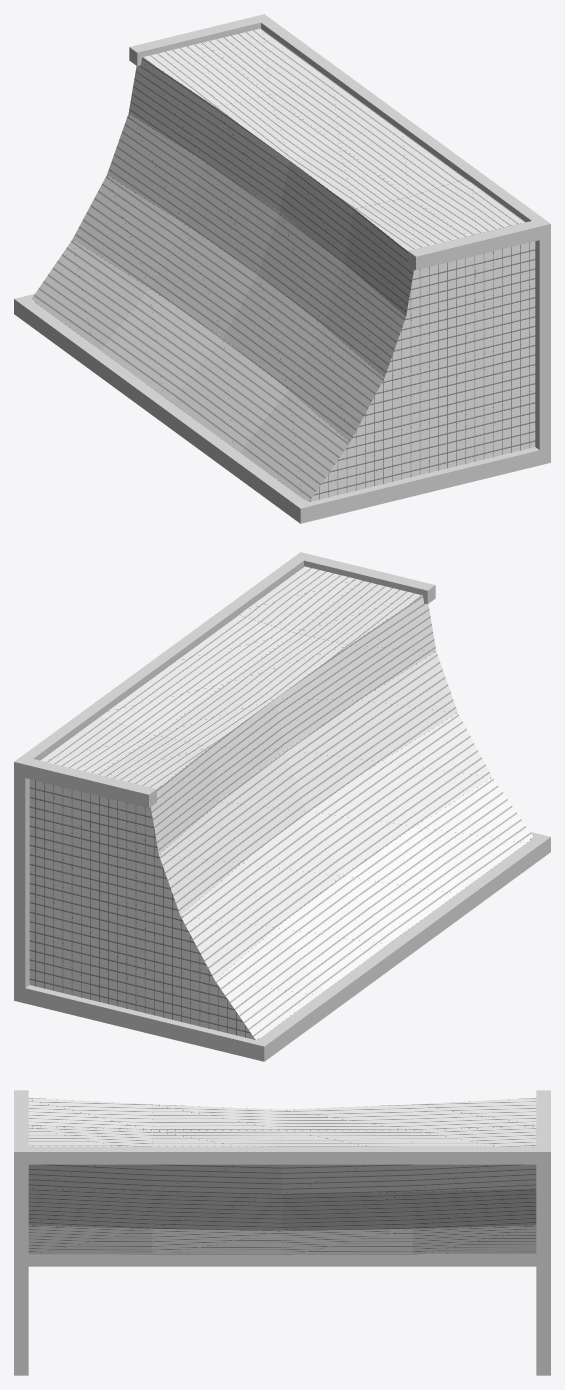
File: GoalPost1.glb
3 views of the same model, one above another, from view 1: azimuth 30°, elevation 25°; view 2: azimuth 150°, elevation 25°; view 3: azimuth 270°, elevation 25° (orthographic). The views are drawn at different scales.
Visible parts, largest first — view 1: Net.001, GoalPost.001; view 2: Net.001, GoalPost.001; view 3: Net.001, GoalPost.001.
Boxes of the visible parts, bbox=[...] form: Net.001: bbox=[32, 28, 535, 501]; GoalPost.001: bbox=[14, 14, 550, 523]; Net.001: bbox=[29, 566, 532, 1039]; GoalPost.001: bbox=[14, 552, 550, 1061]; Net.001: bbox=[28, 1098, 536, 1254]; GoalPost.001: bbox=[14, 1090, 550, 1375].
Bounding box in the file's own units: 4.86 × 4.43 × 9.62.
2 materials, 1 textured.
